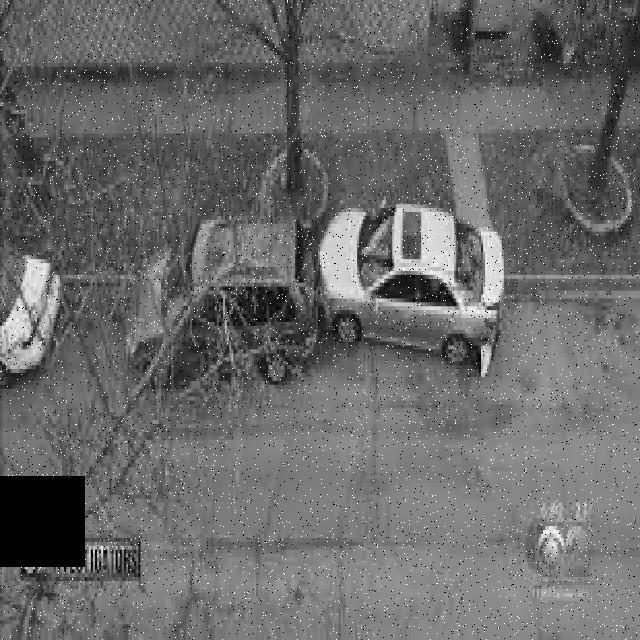accident: (124, 181, 508, 401)
vehicle: (1, 238, 81, 396)
